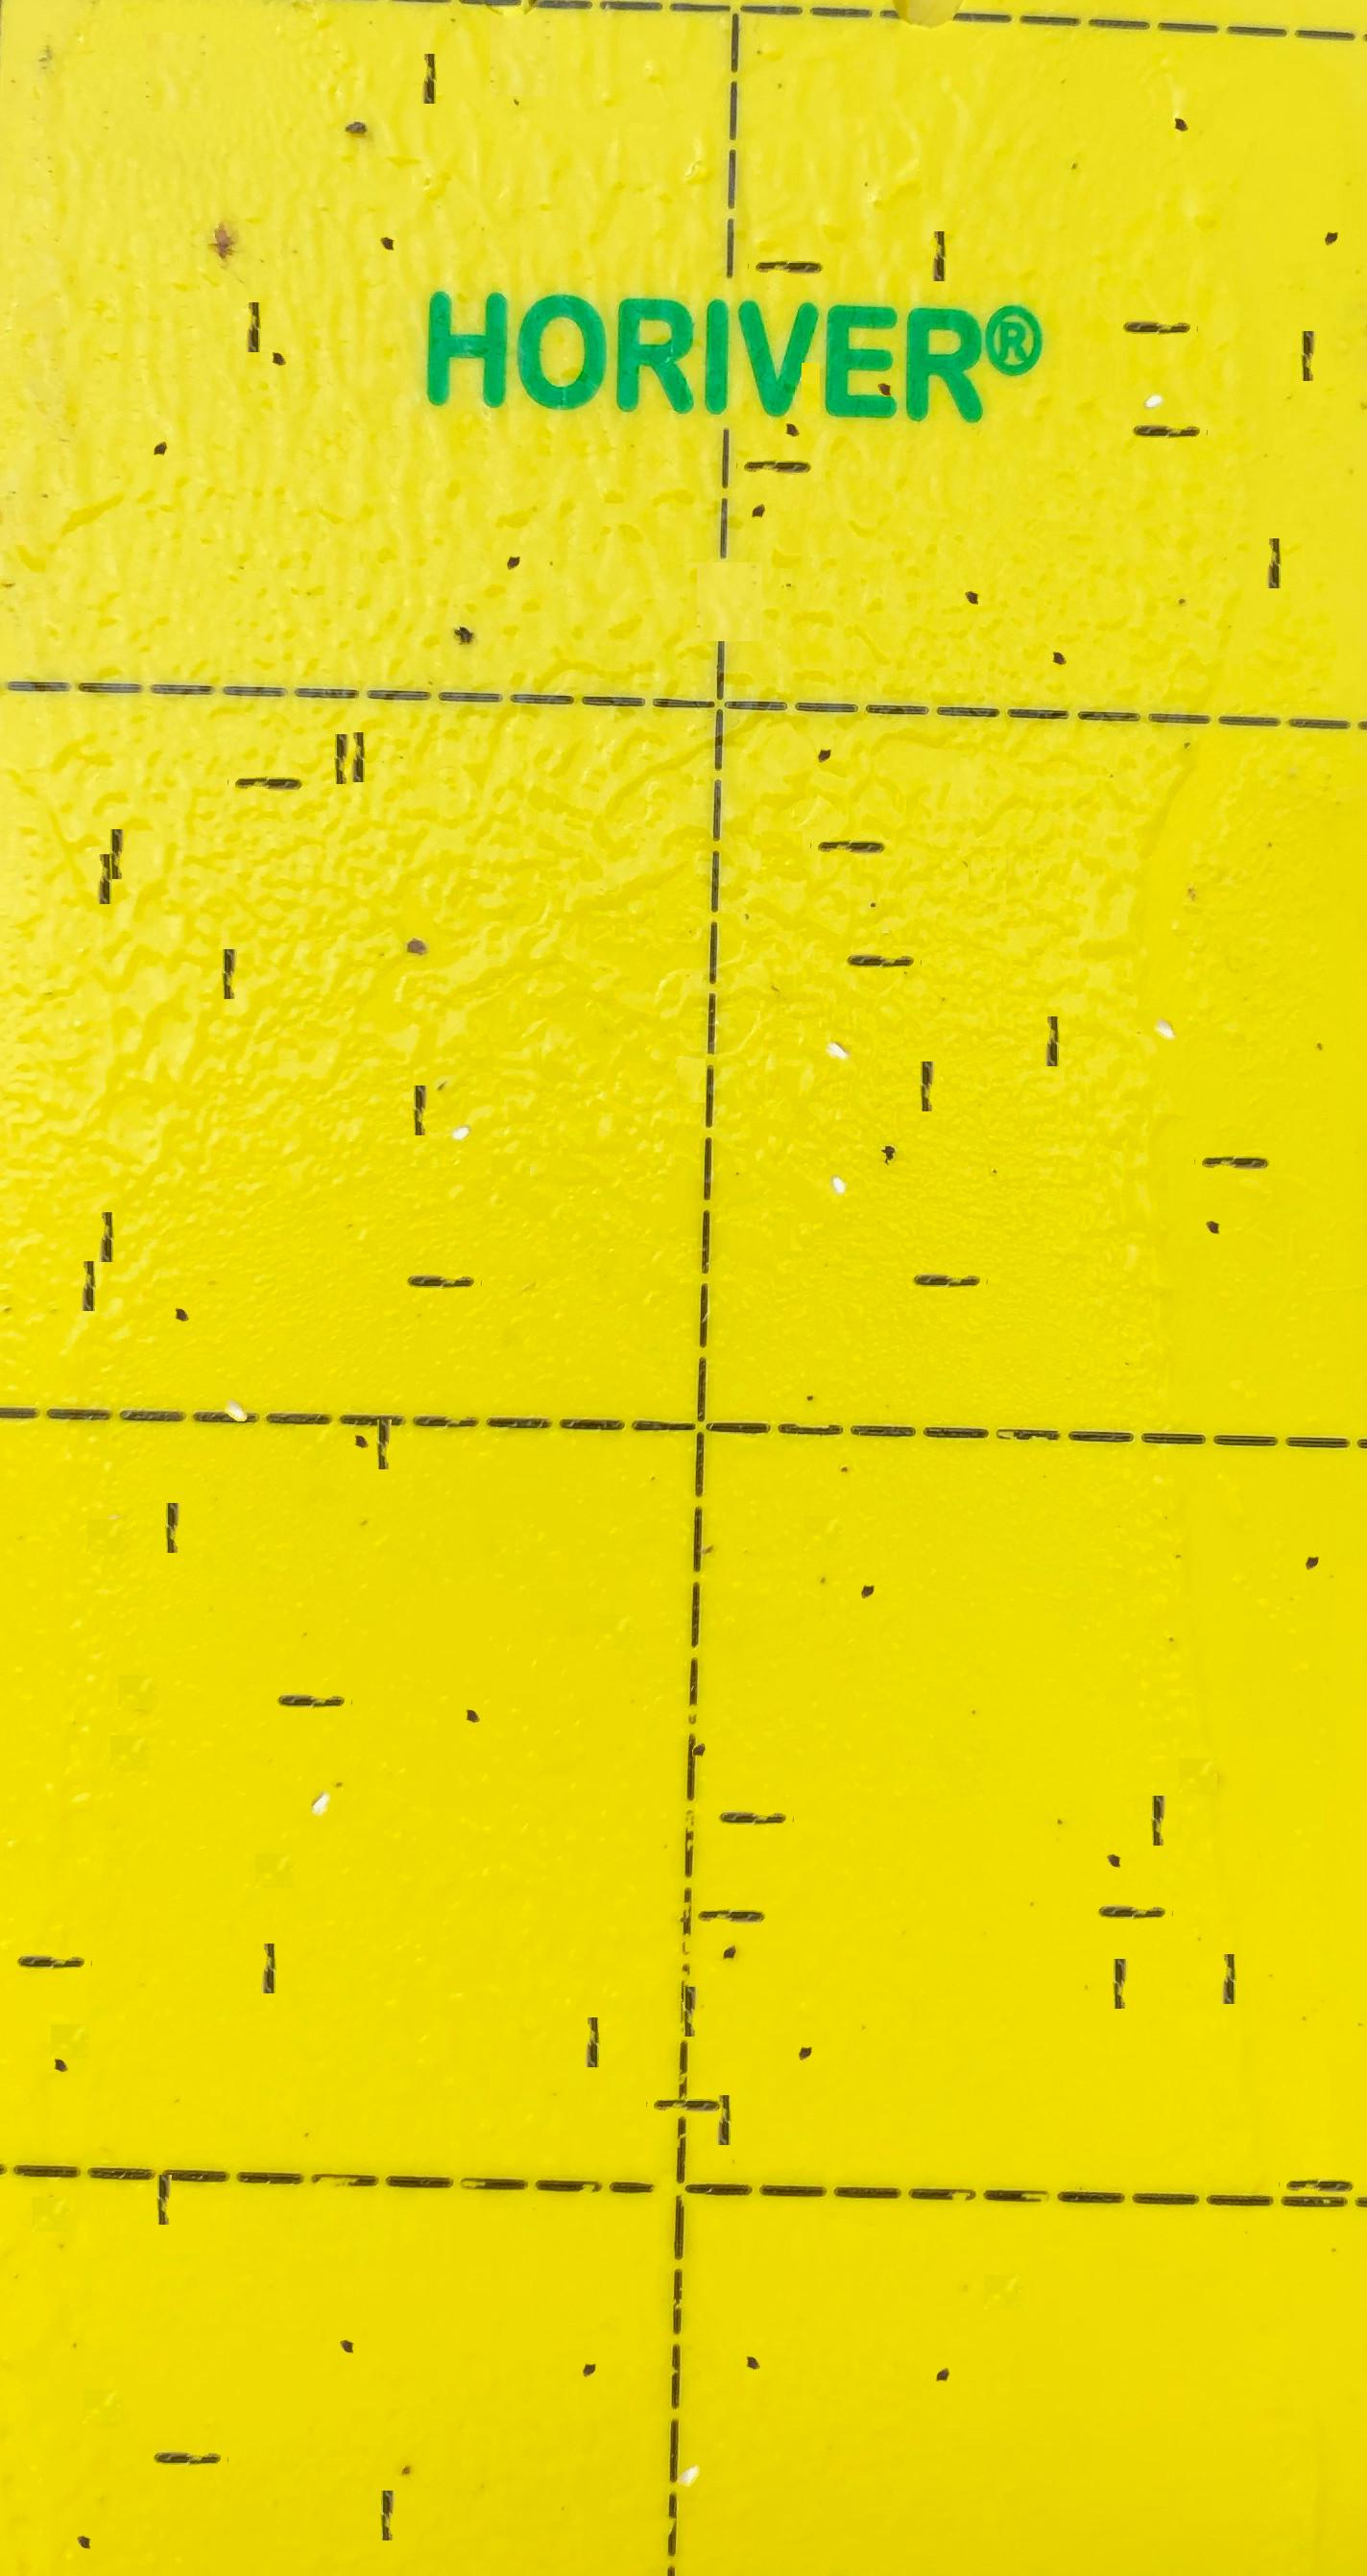white_fly: (438, 1060, 481, 1109), (816, 1114, 859, 1162), (1133, 331, 1176, 378), (302, 1739, 344, 1784), (1144, 964, 1186, 1007), (666, 2412, 709, 2455), (215, 1344, 256, 1389), (815, 985, 856, 1029)
